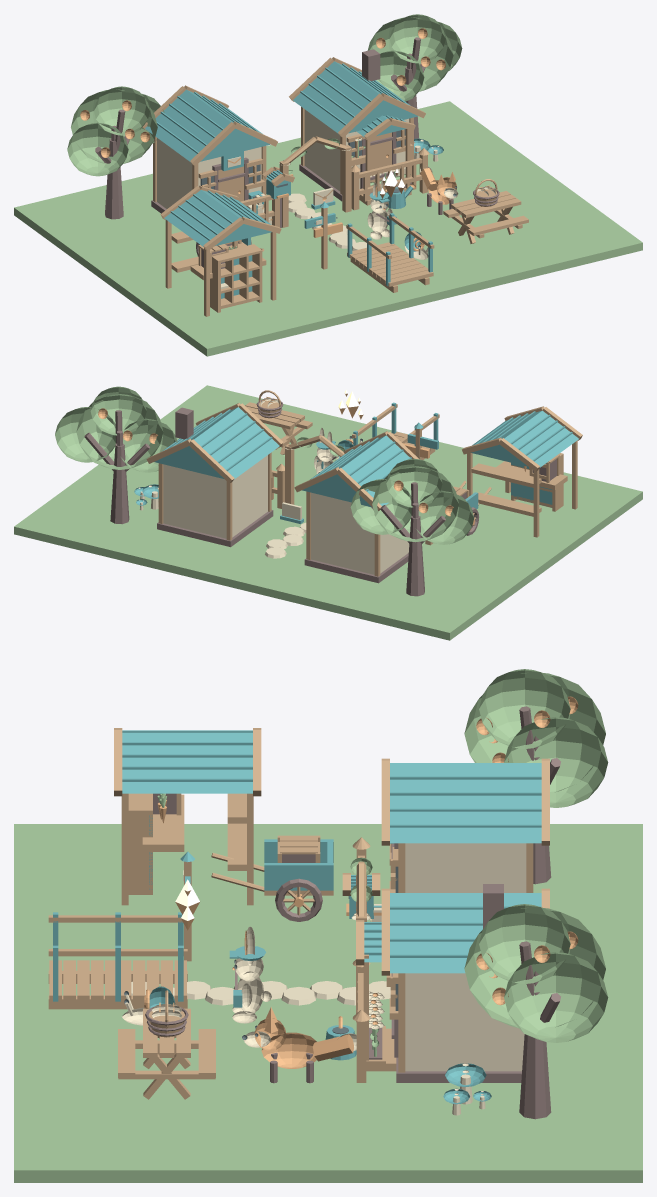
Rendered from meadow-courier.glb.
The picture shows the model from 3 angles, top to bottom: view 1: azimuth 30°, elevation 25°; view 2: azimuth 150°, elevation 25°; view 3: azimuth 270°, elevation 25°; orthographic projection. The views are drawn at different scales.
Visible parts, largest first — view 1: terrain-base, 10-meadow-courier-apple-tree/1, 01-meadow-courier-post-office/2, 09-meadow-courier-apple-tree/1, 02-meadow-courier-garden-cottage/2, 02-meadow-courier-garden-cottage/3, 03-meadow-courier-market-awning/0, 03-meadow-courier-market-awning/1, 01-meadow-courier-post-office/3, 16-meadow-courier-sorting-shelf/0, 05-meadow-courier-footbridge/0, 01-meadow-courier-post-office/1 (+12 smaller); view 2: terrain-base, 10-meadow-courier-apple-tree/1, 09-meadow-courier-apple-tree/1, 02-meadow-courier-garden-cottage/1, 01-meadow-courier-post-office/1, 02-meadow-courier-garden-cottage/2, 03-meadow-courier-market-awning/0, 03-meadow-courier-market-awning/1, 01-meadow-courier-post-office/2, 02-meadow-courier-garden-cottage/3, 09-meadow-courier-apple-tree/0, 10-meadow-courier-apple-tree/0 (+12 smaller); view 3: terrain-base, 09-meadow-courier-apple-tree/1, 01-meadow-courier-post-office/2, 10-meadow-courier-apple-tree/1, 02-meadow-courier-garden-cottage/1, 03-meadow-courier-market-awning/1, 02-meadow-courier-garden-cottage/2, 05-meadow-courier-footbridge/0, 03-meadow-courier-market-awning/0, 01-meadow-courier-post-office/1, 17-meadow-courier-picnic-bench/0, 02-meadow-courier-garden-cottage/3 (+16 smaller).
Boxes of the visible parts, <box> form: terrain-base: <box>14,101,642,356</box>; 10-meadow-courier-apple-tree/1: <box>67,86,164,176</box>; 01-meadow-courier-post-office/2: <box>145,89,270,199</box>; 09-meadow-courier-apple-tree/1: <box>367,14,462,101</box>; 02-meadow-courier-garden-cottage/2: <box>293,61,418,137</box>; 02-meadow-courier-garden-cottage/3: <box>289,57,425,205</box>; 03-meadow-courier-market-awning/0: <box>160,185,281,316</box>; 03-meadow-courier-market-awning/1: <box>164,190,271,246</box>; 01-meadow-courier-post-office/3: <box>142,85,277,207</box>; 16-meadow-courier-sorting-shelf/0: <box>210,244,262,312</box>; 05-meadow-courier-footbridge/0: <box>346,214,434,292</box>; 01-meadow-courier-post-office/1: <box>157,138,261,208</box>; terrain-base: <box>14,385,642,640</box>; 10-meadow-courier-apple-tree/1: <box>350,458,474,544</box>; 09-meadow-courier-apple-tree/1: <box>55,386,177,472</box>; 02-meadow-courier-garden-cottage/1: <box>163,455,267,538</box>; 01-meadow-courier-post-office/1: <box>311,492,409,574</box>; 02-meadow-courier-garden-cottage/2: <box>154,407,279,479</box>; 03-meadow-courier-market-awning/0: <box>462,406,582,537</box>; 03-meadow-courier-market-awning/1: <box>471,410,578,467</box>; 01-meadow-courier-post-office/2: <box>302,435,411,507</box>; 02-meadow-courier-garden-cottage/3: <box>146,403,283,540</box>; 09-meadow-courier-apple-tree/0: <box>84,410,149,524</box>; 10-meadow-courier-apple-tree/0: <box>380,482,445,596</box>; terrain-base: <box>14,824,642,1182</box>; 09-meadow-courier-apple-tree/1: <box>464,904,608,1042</box>; 01-meadow-courier-post-office/2: <box>390,763,541,843</box>; 10-meadow-courier-apple-tree/1: <box>464,669,608,807</box>; 02-meadow-courier-garden-cottage/1: <box>405,973,524,1071</box>; 03-meadow-courier-market-awning/1: <box>122,730,252,793</box>; 02-meadow-courier-garden-cottage/2: <box>364,893,541,973</box>; 05-meadow-courier-footbridge/0: <box>48,915,187,1009</box>; 03-meadow-courier-market-awning/0: <box>114,728,261,905</box>; 01-meadow-courier-post-office/1: <box>405,843,526,892</box>; 17-meadow-courier-picnic-bench/0: <box>118,1008,215,1099</box>; 02-meadow-courier-garden-cottage/3: <box>356,888,549,1072</box>.
Size of the model in its own units: 11.79 by 3.49 by 9.05.
